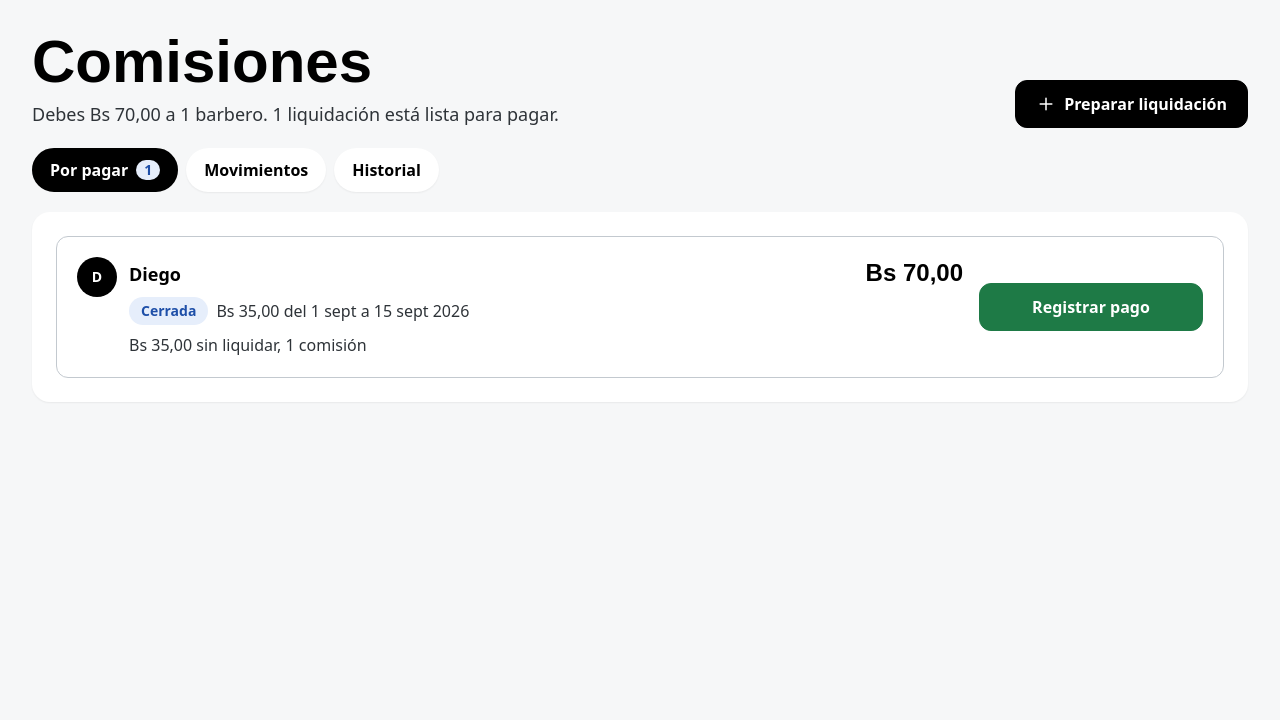
Test: CommissionsPage › asks for confirmation before recording a payment
Click the button with aria-label "Registrar pago de Diego".
click(1091, 307)  # box [979,283,1203,331]
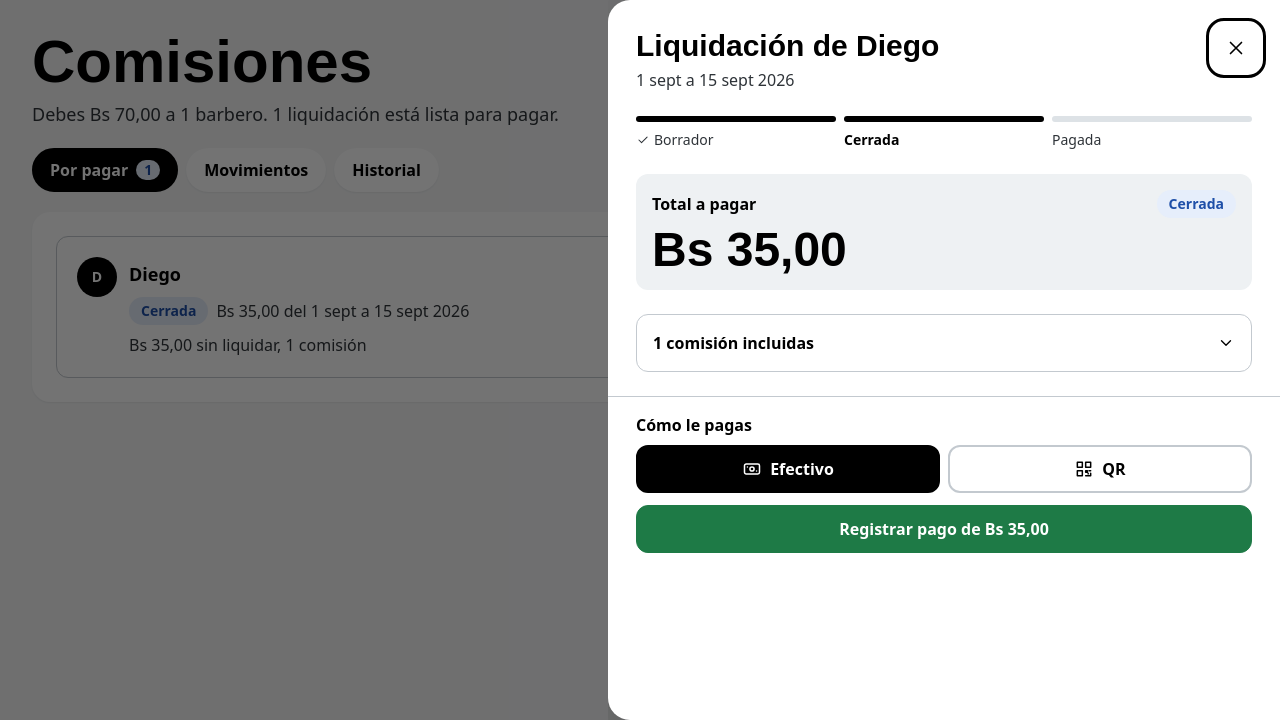
Expected: the list named "Estado: Cerrada" is shown, [636,116,1252,150]
Click the radio button labelled "QR".
click(1100, 469)  # box [948,445,1252,493]
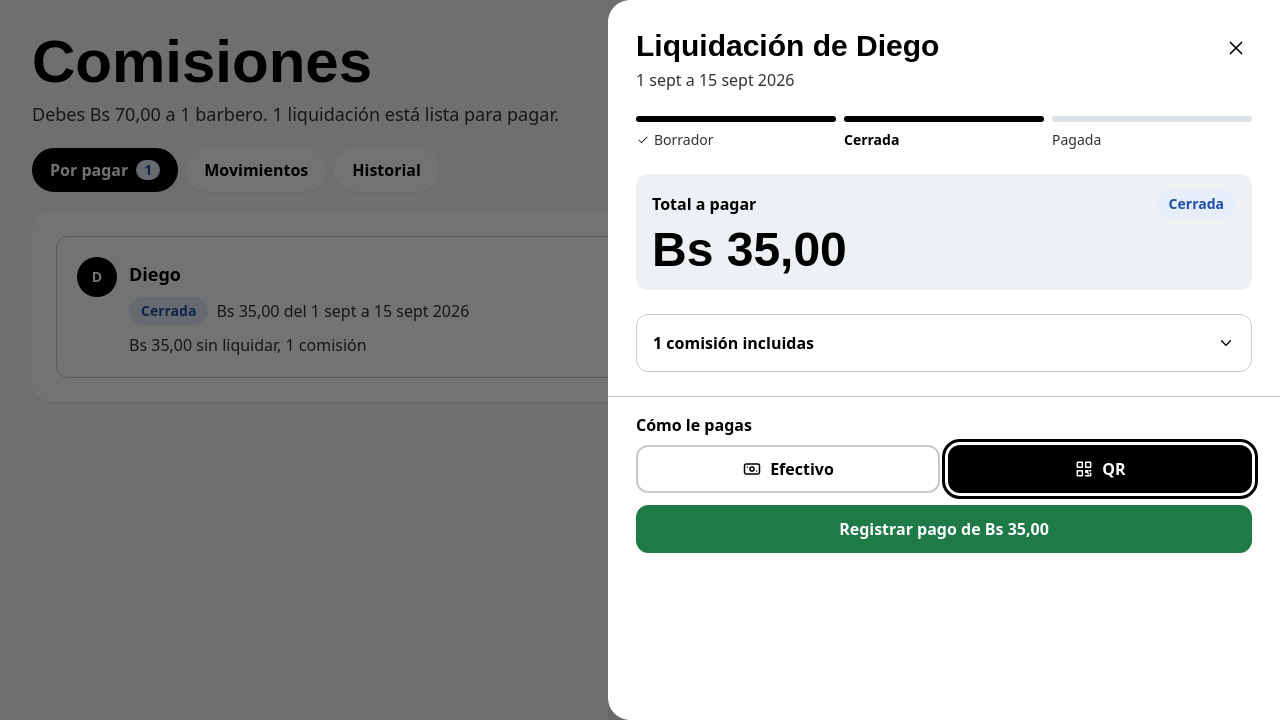
Click the button "Registrar pago de Bs 35,00".
click(944, 529)  # box [636,505,1252,553]
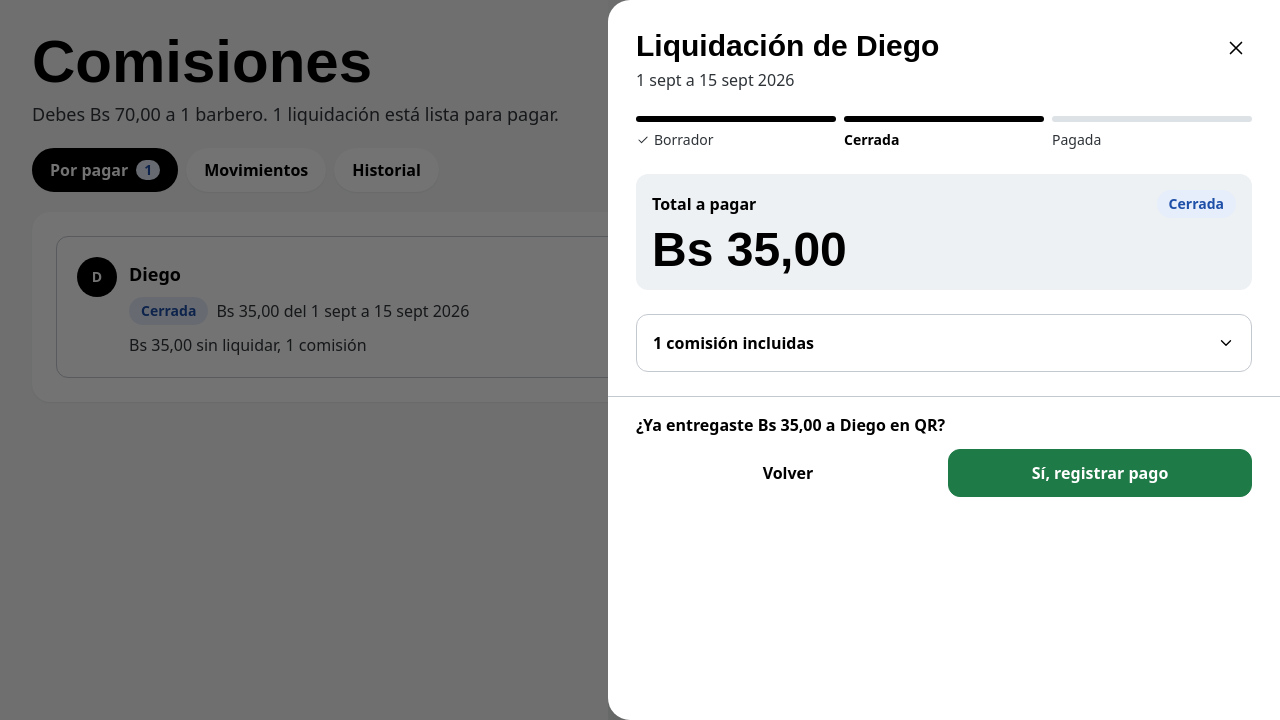
Expected: the text "¿Ya entregaste Bs 35,00 a Diego en QR?" is shown, [636,414,945,436]
Click the button "Sí, registrar pago".
click(1100, 473)  # box [948,449,1252,497]
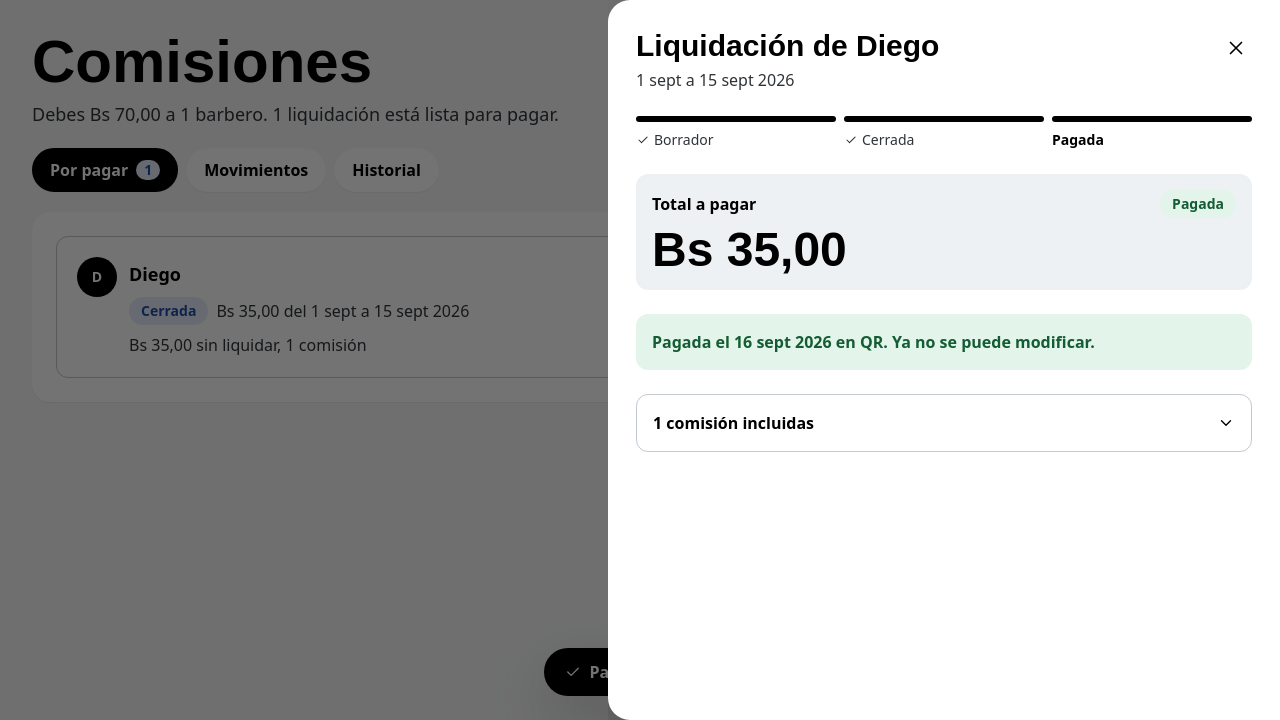
Expected: the text "Pagada el 16 sept 2026 en QR. Ya no se puede modificar." is shown, [636,314,1252,370]
